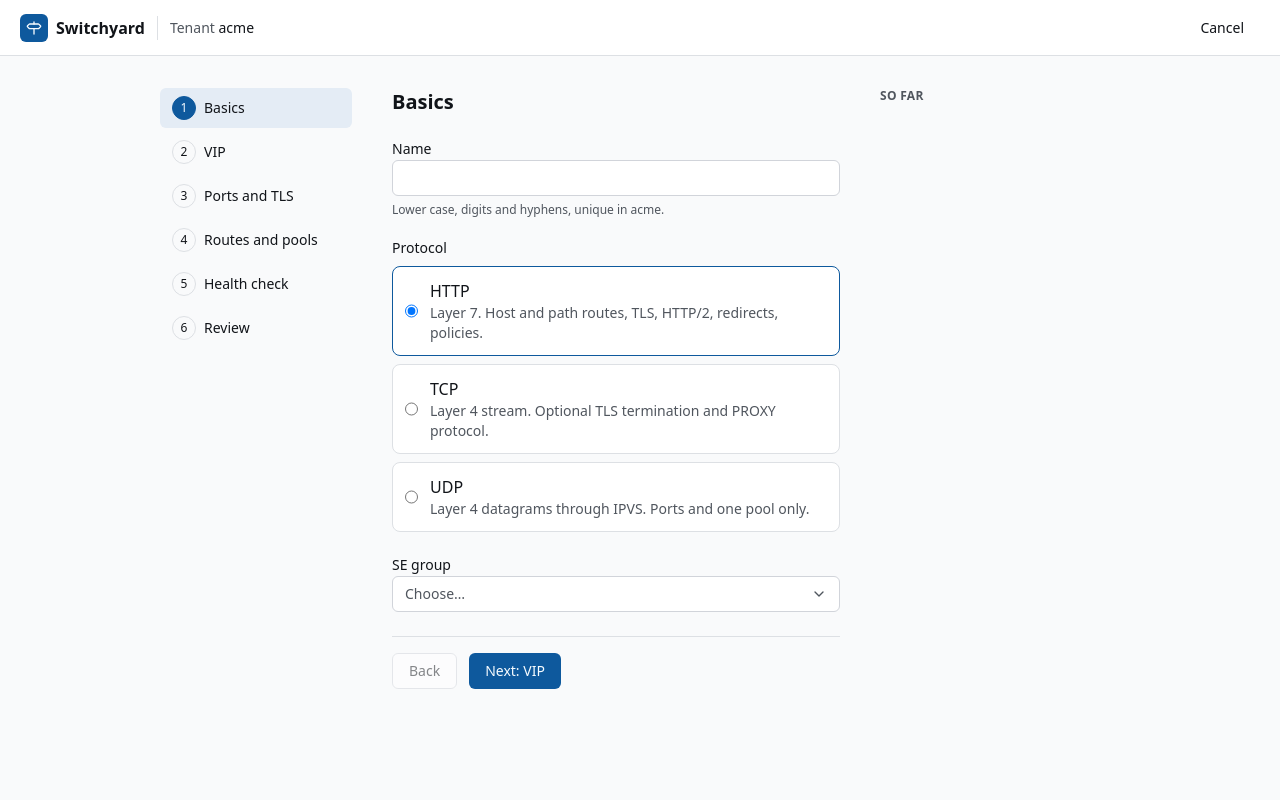
pools filter in the URL and wizard VIP suggestion › suggests an address when the pool is chosen, labels it, and suggests again
Type "x1" into the field named "Name" at (616, 178), box [392,160,840,196]
Click the dropdown named "SE group" at (435, 594), box [392,576,840,612]
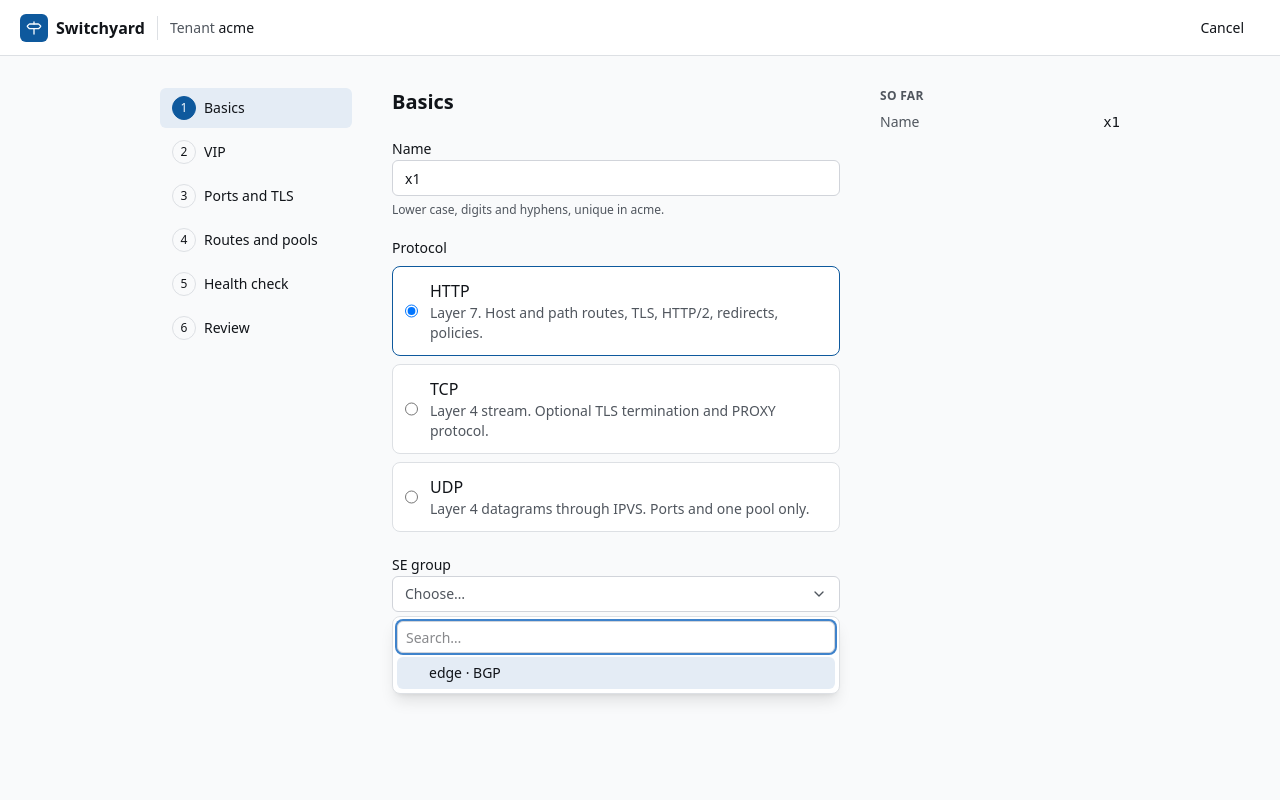
Click the option "edge · BGP" at (465, 672), box [397,657,835,689]
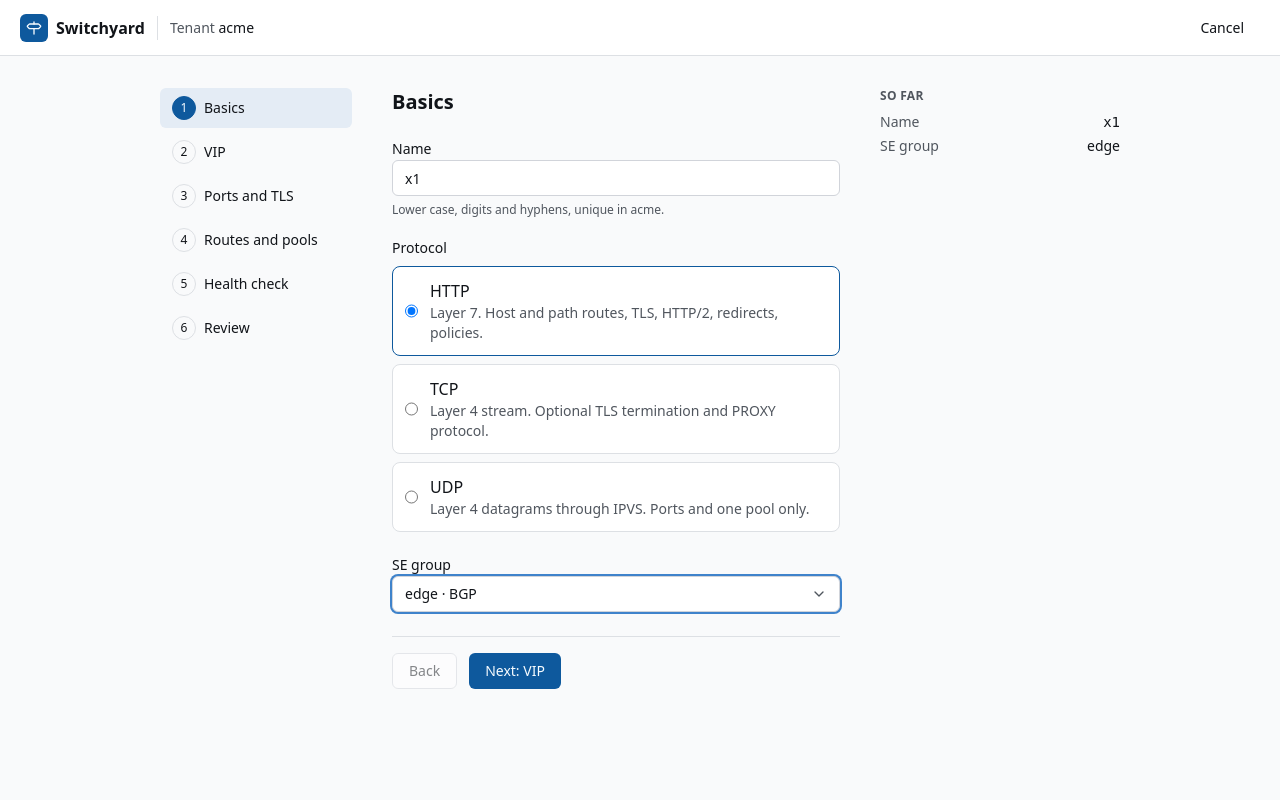
Click the button "Next: VIP" at (515, 671), box [469,653,561,689]
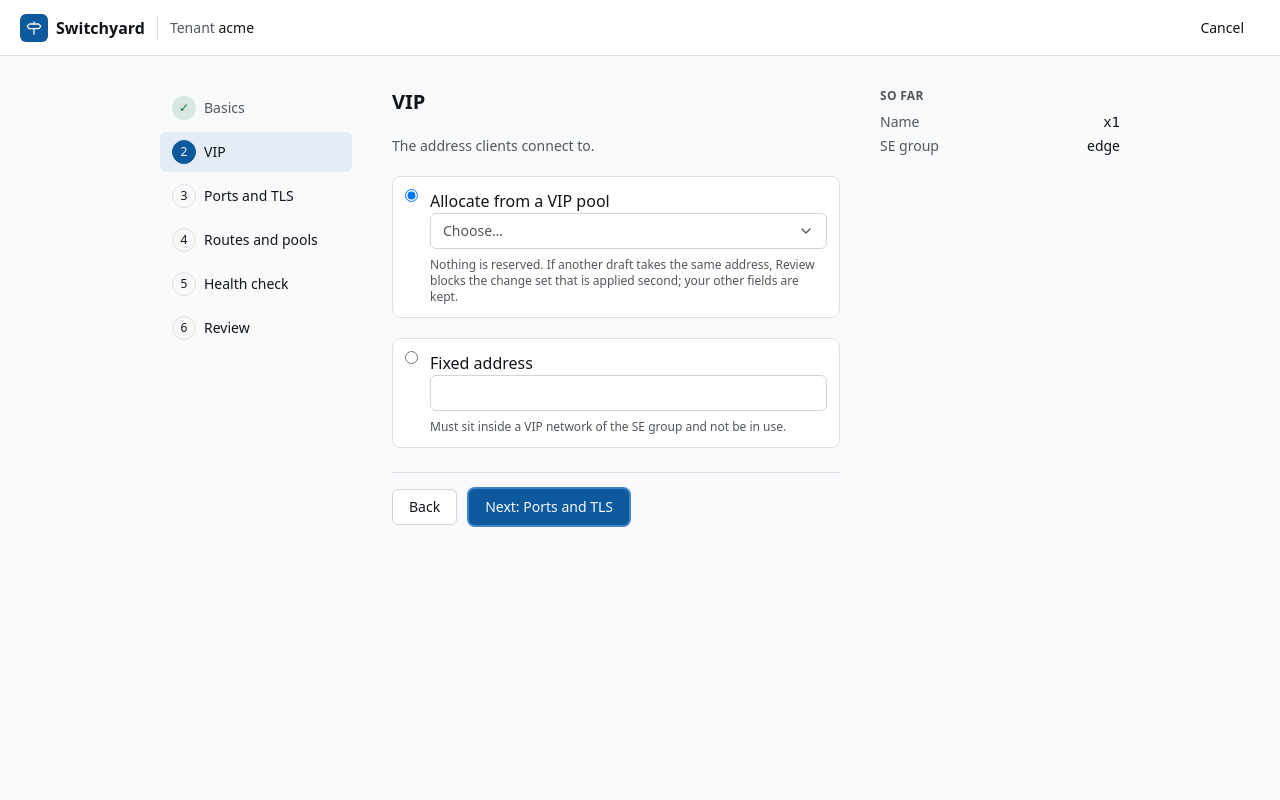
Click the dropdown named "VIP pool" at (473, 230), box [430,213,827,249]
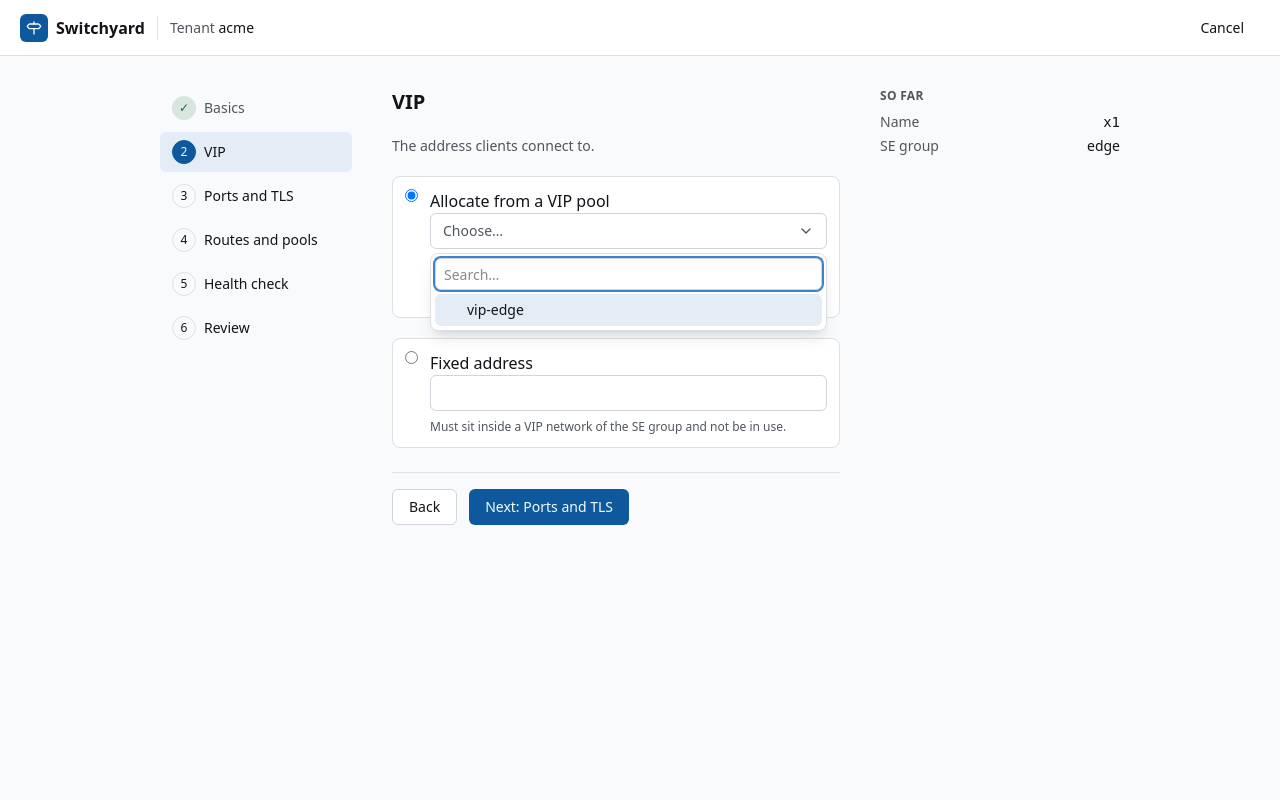
Click the option "vip-edge" at (495, 310), box [435,294,822,326]
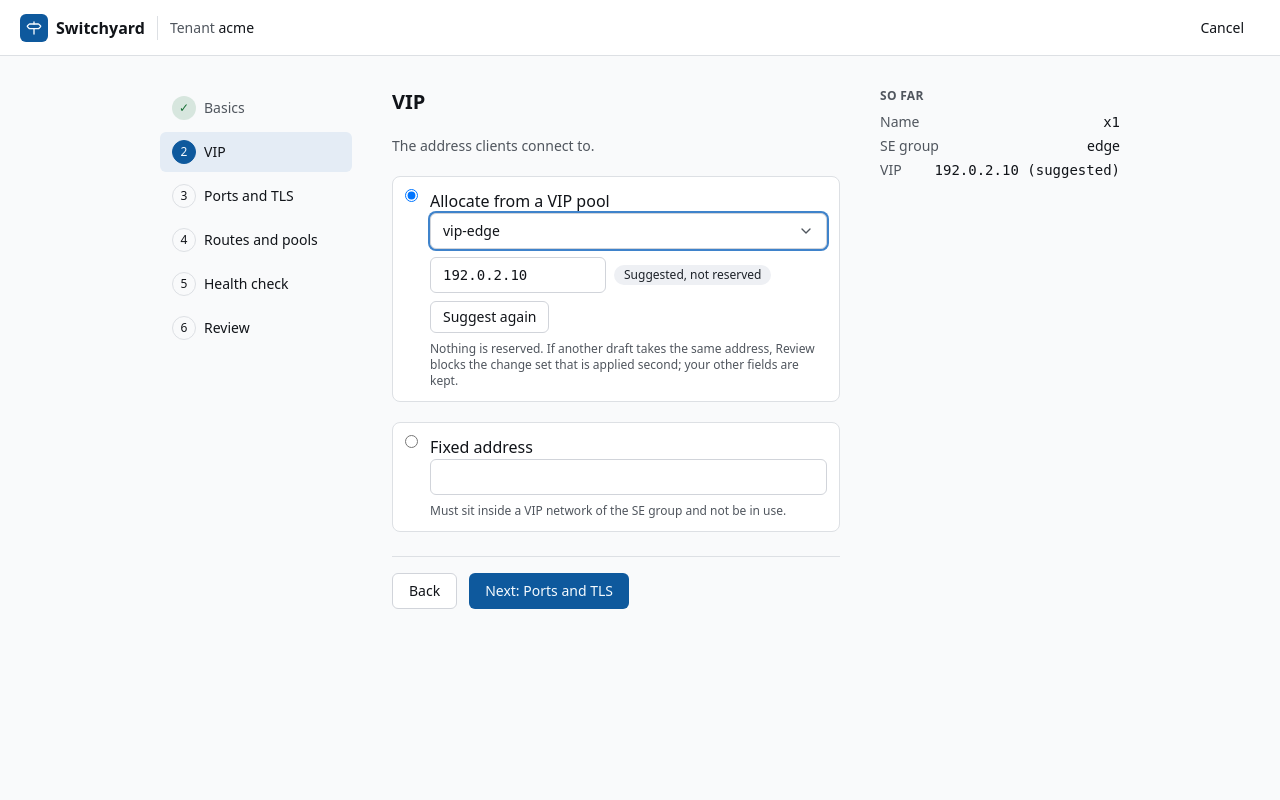
Result: the text "Review blocks the change set that is applied second" is shown at [430,340,815,389]
Result: the text "Suggested, not reserved" is shown at [614,265,771,285]
Click the button "Suggest again" at (490, 317), box [430,301,549,333]
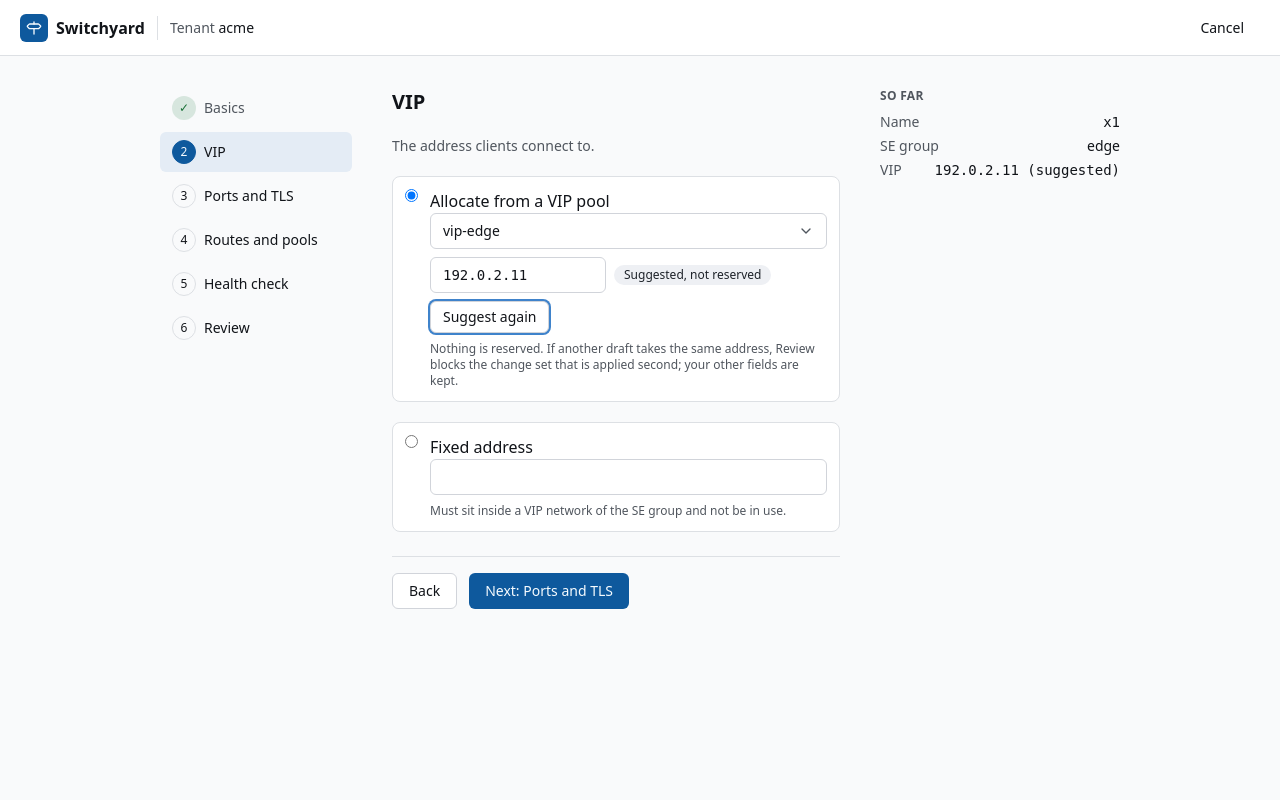
Result: the field showing "192.0.2.11" is shown at [430,257,606,293]
